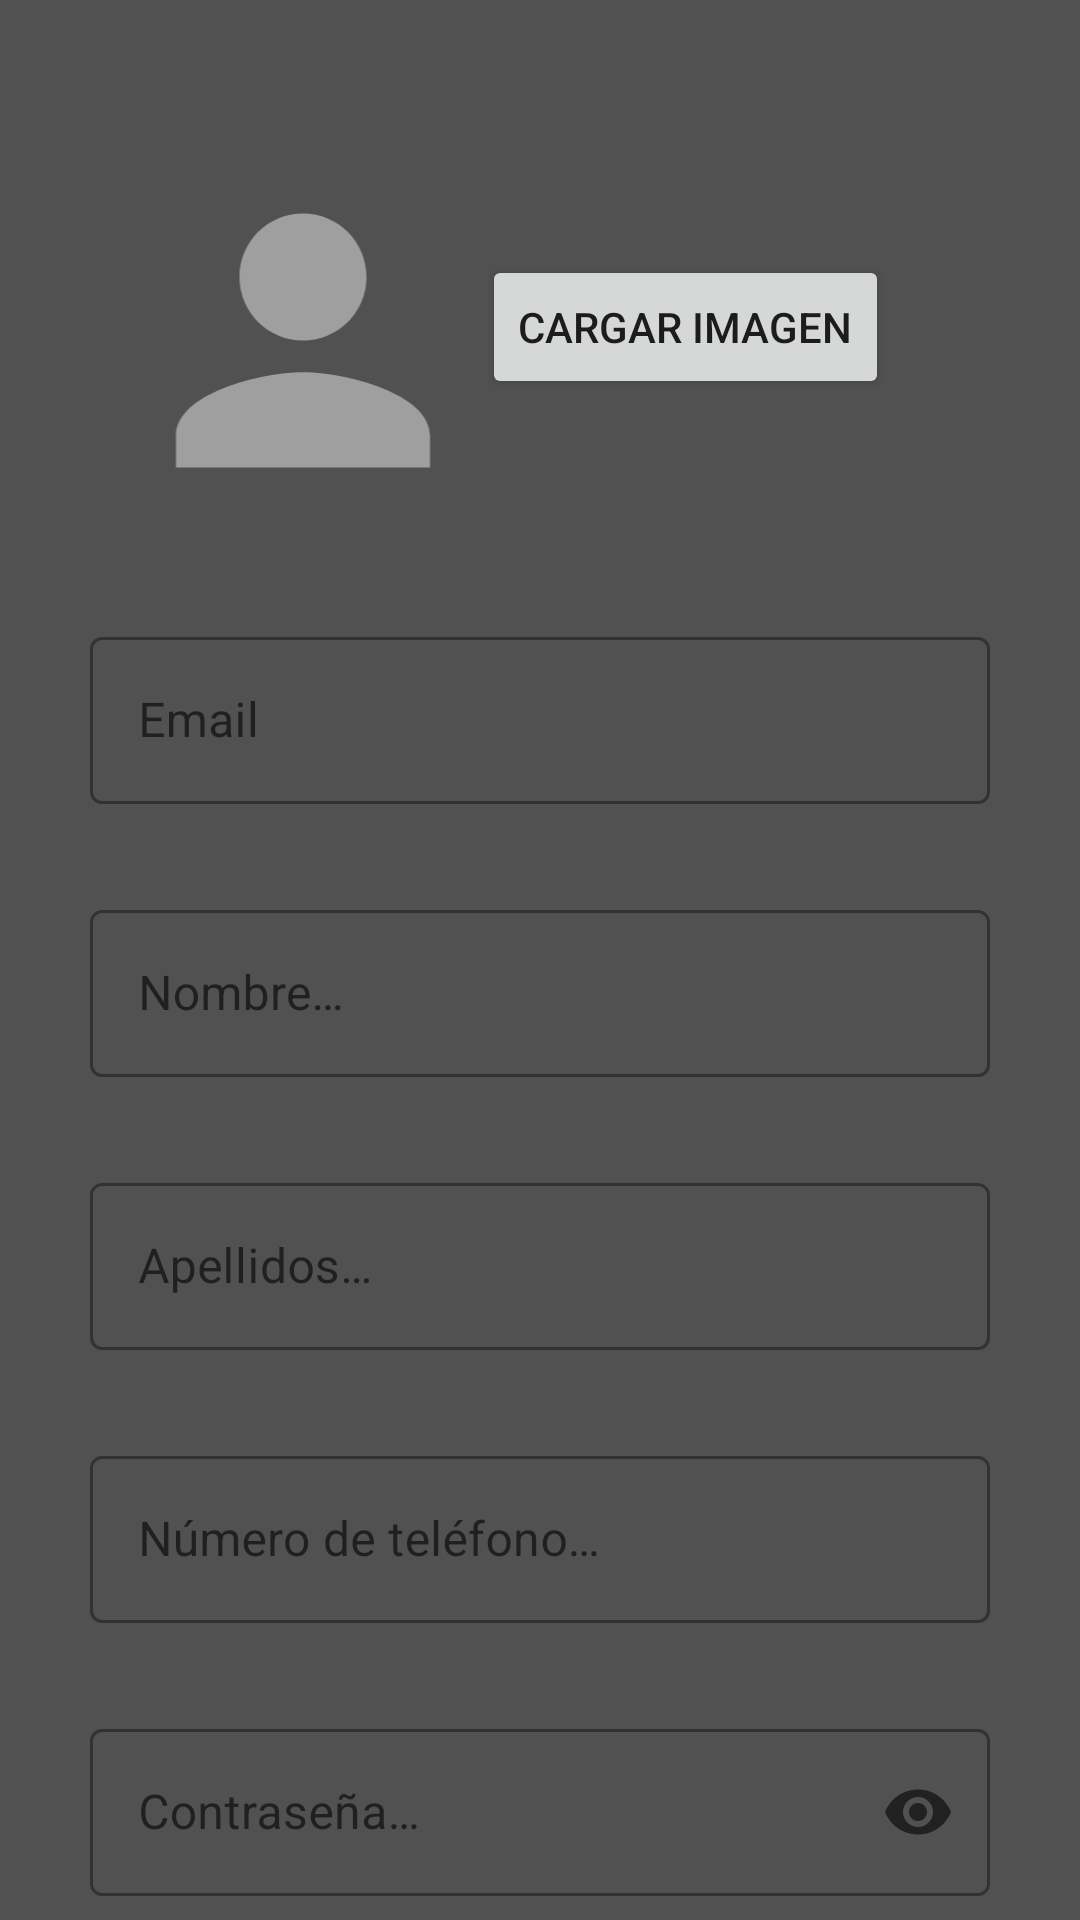

Where to tap for icons on this 1080 × 1920 app screen, as (x,y):
Imagen de perfil: (303,340)
